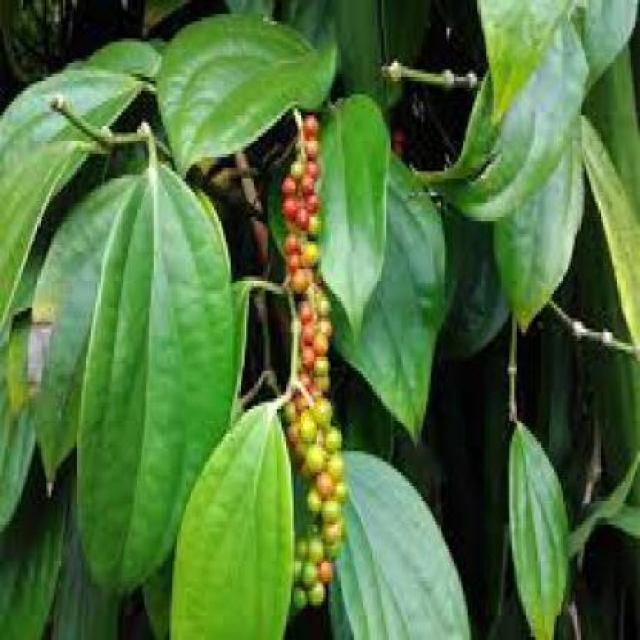RIPE: (273, 112, 319, 294)
